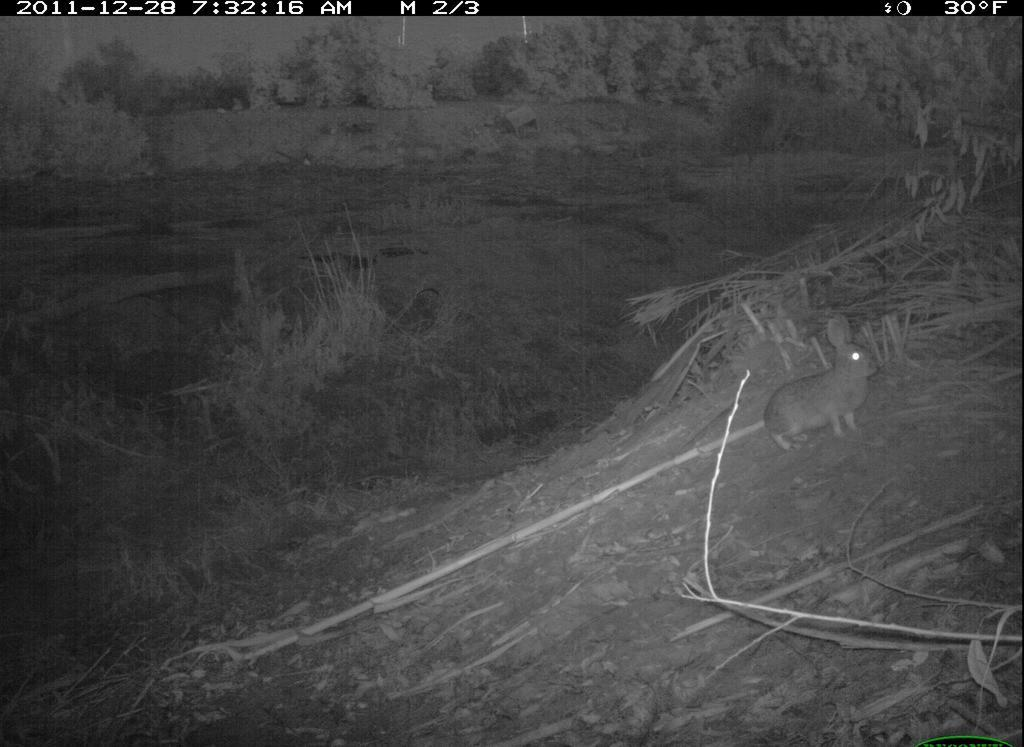rabbit: (756, 309, 882, 456)
